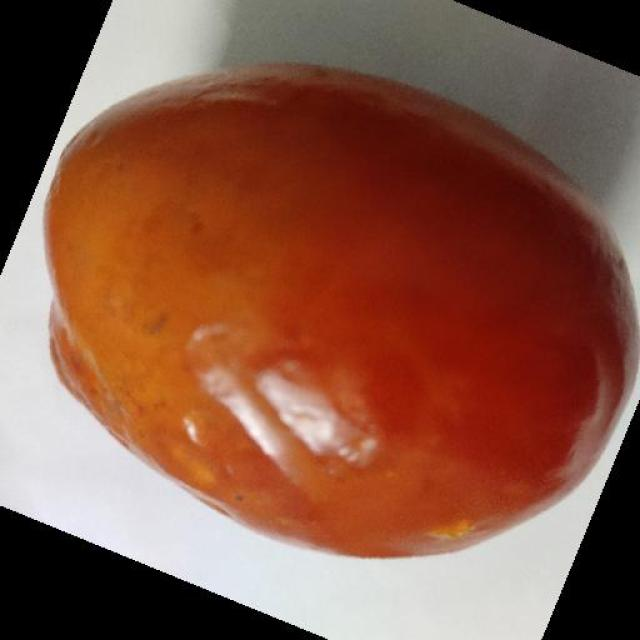Stale_tomato: (72, 96, 627, 540)
